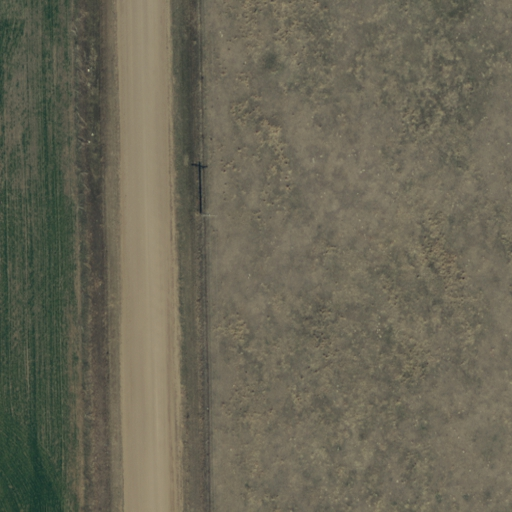DT: (189, 204, 220, 226)
